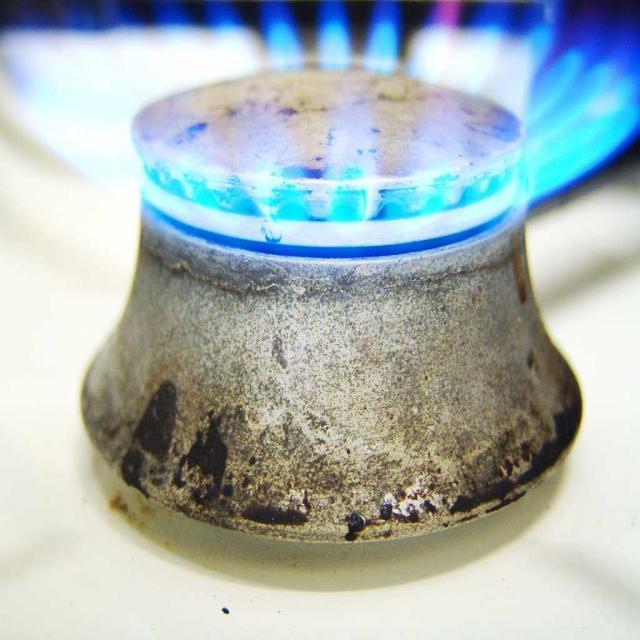Fire: (25, 17, 630, 225)
